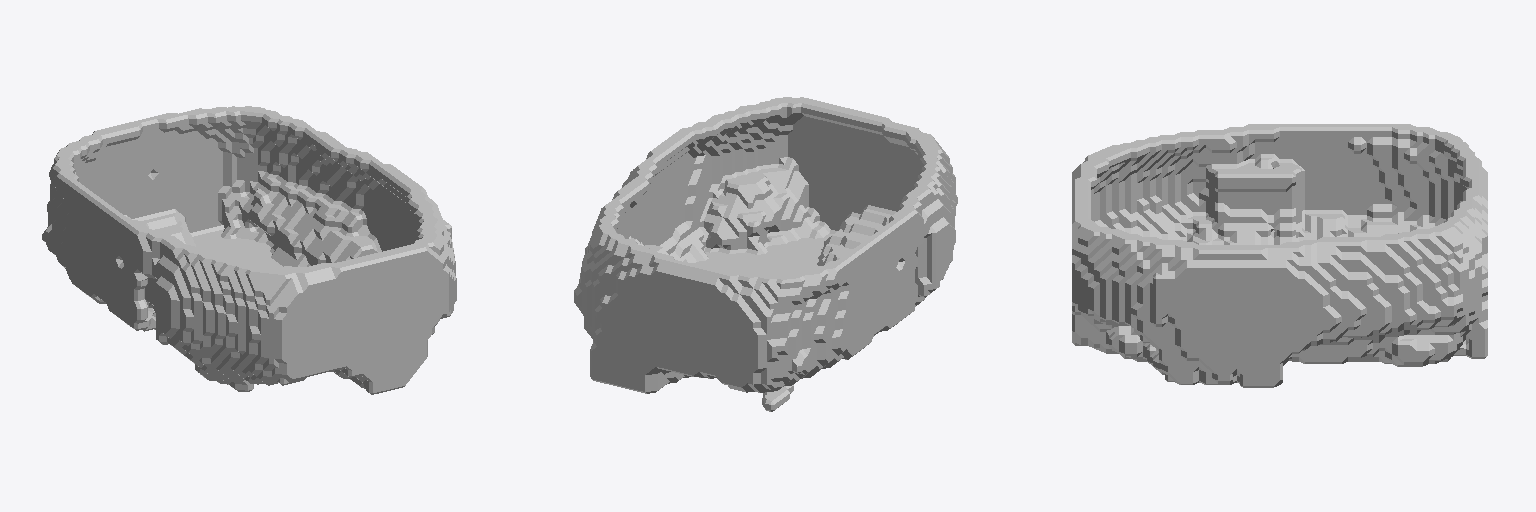
The model's file is Input_surface_mesh.obj.
3 views of the same model, side by side, from view 1: azimuth 30°, elevation 25°; view 2: azimuth 150°, elevation 25°; view 3: azimuth 270°, elevation 25° (orthographic).
Size of the model in its own units: 4 by 1.92 by 5.36.